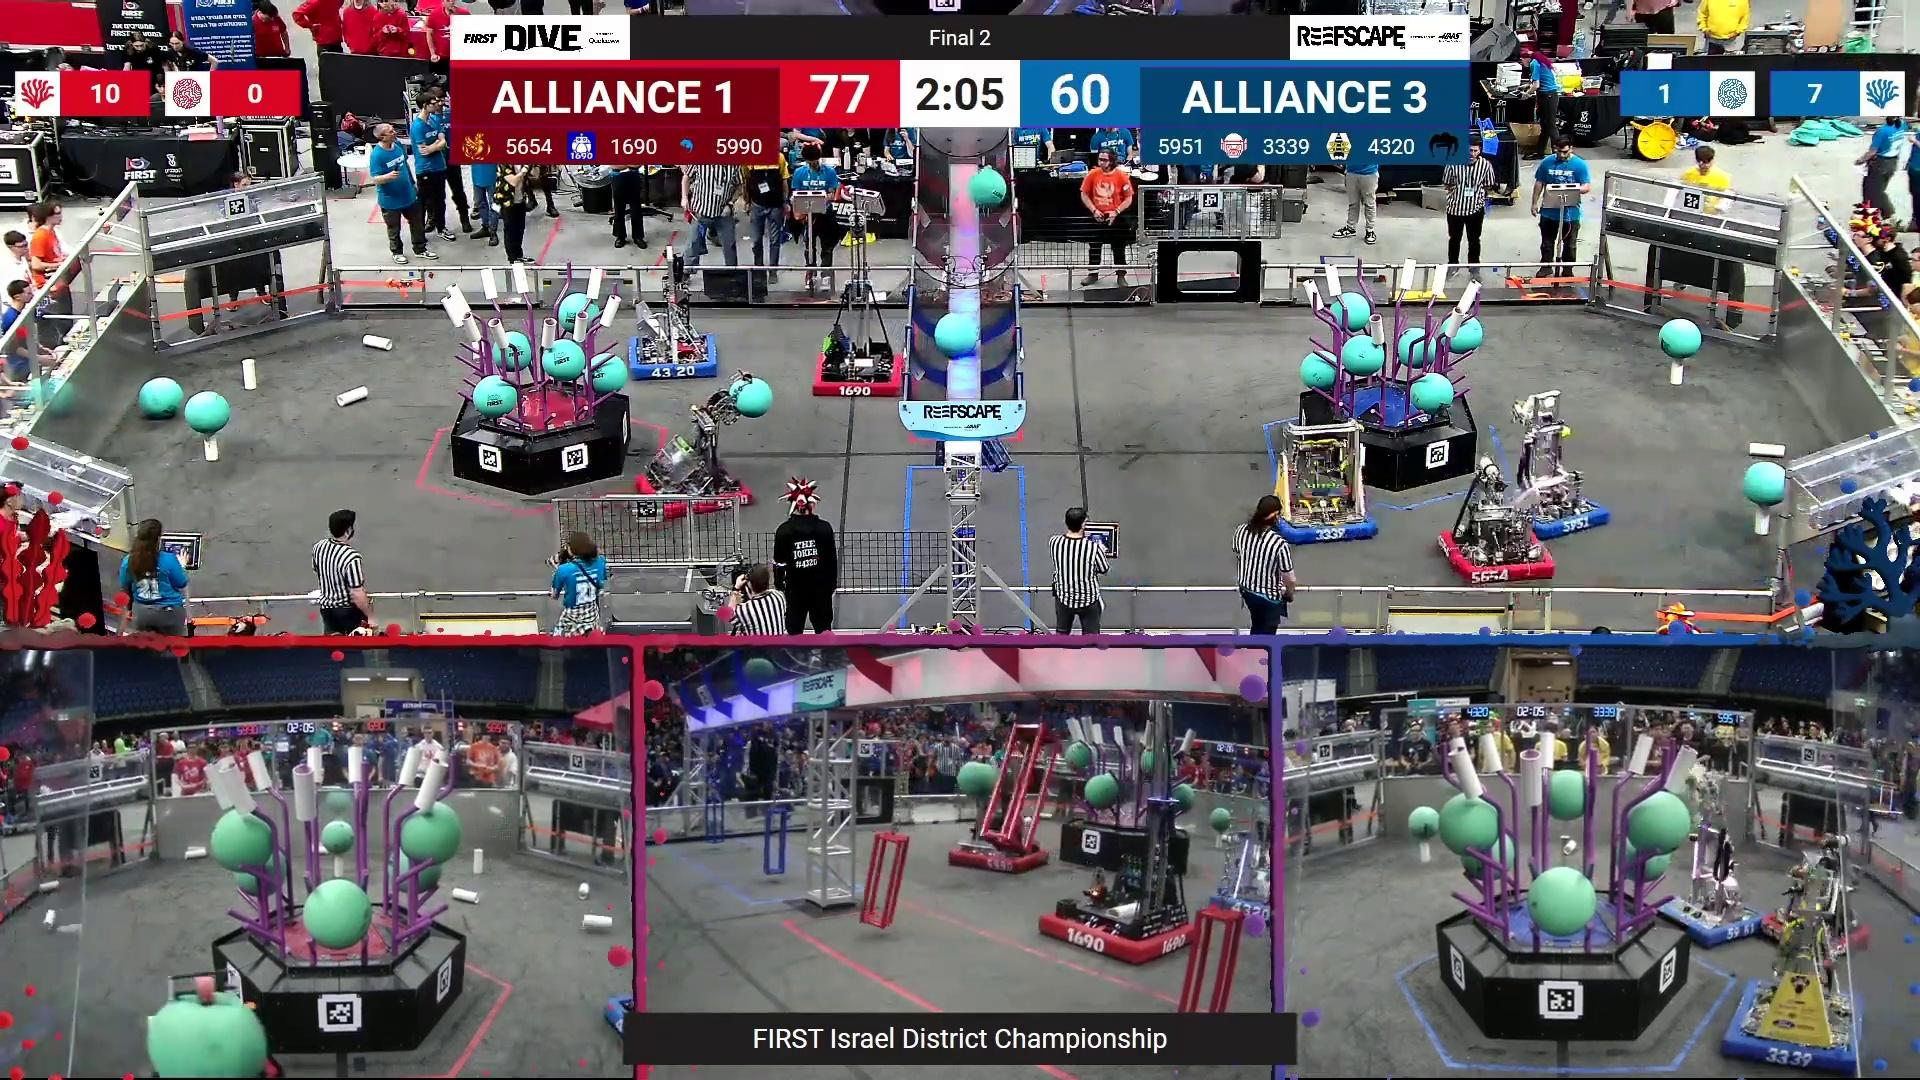robot: (1034, 707, 1200, 967), (1724, 857, 1863, 1076), (810, 194, 906, 400), (632, 376, 754, 524), (1655, 775, 1760, 945), (1491, 390, 1609, 539), (1756, 829, 1873, 961), (1266, 419, 1382, 546), (1440, 459, 1553, 585), (629, 243, 721, 382), (947, 756, 1051, 877), (600, 982, 633, 1035)
